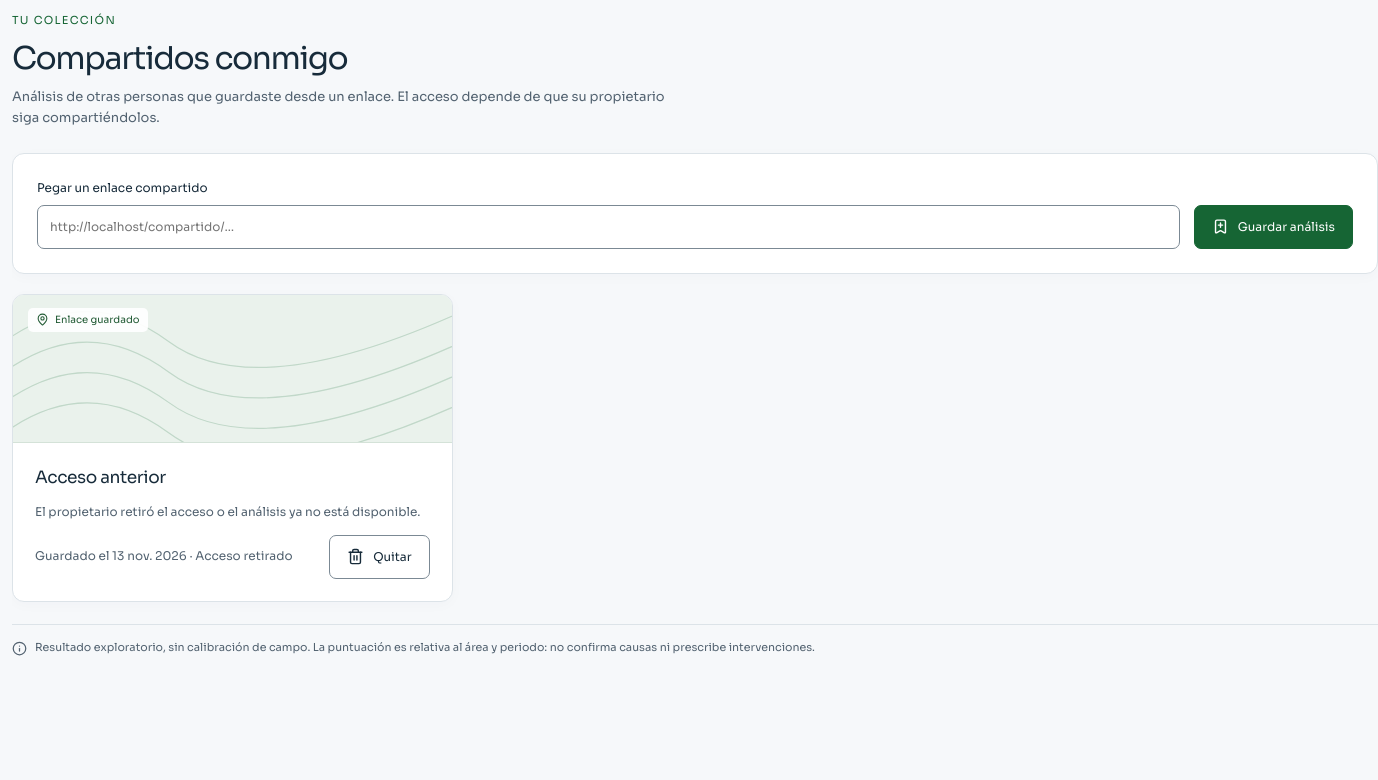
Test: Incoming shared links › retains a withdrawn link as unavailable and removes only its saved entry
Expected: the heading "Acceso anterior" is shown, [35,467,166,488]
Click the button with aria-label "Quitar Acceso anterior de mi colección" at (379, 556), box [329,534,430,578]
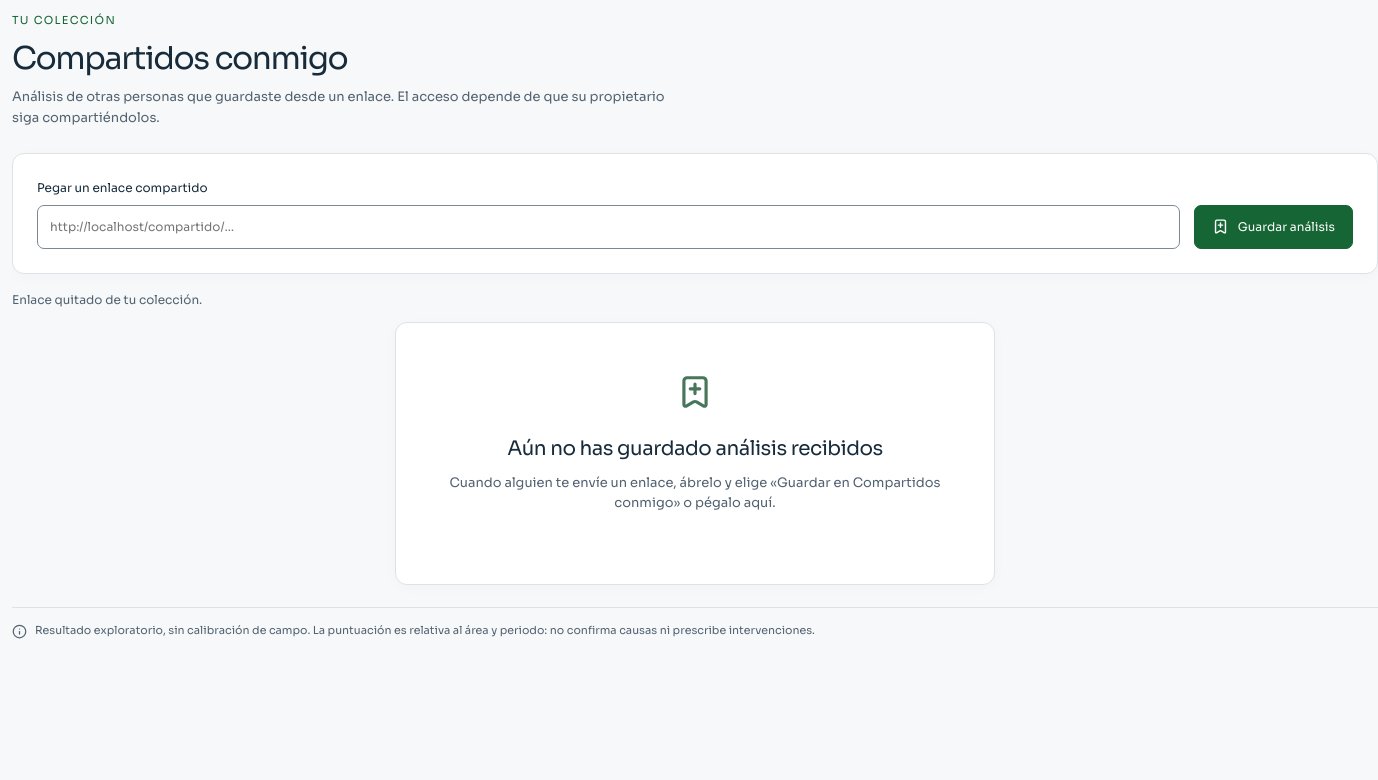
Result: the heading "Aún no has guardado análisis recibidos" is shown at [507,436,883,461]
